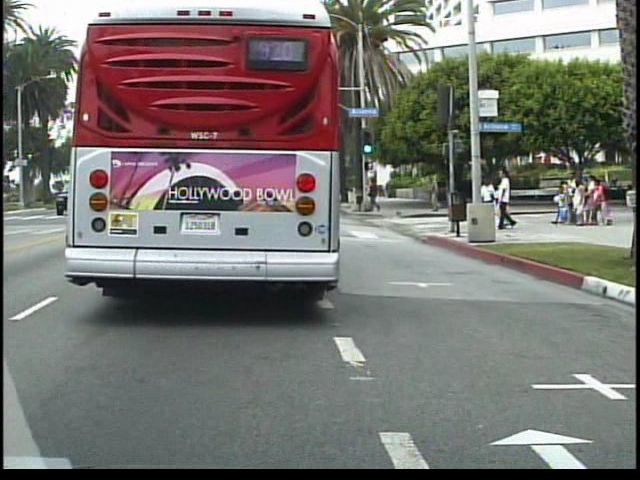person: (495, 165, 519, 235), (478, 173, 499, 227), (367, 175, 387, 215), (428, 173, 446, 214)
